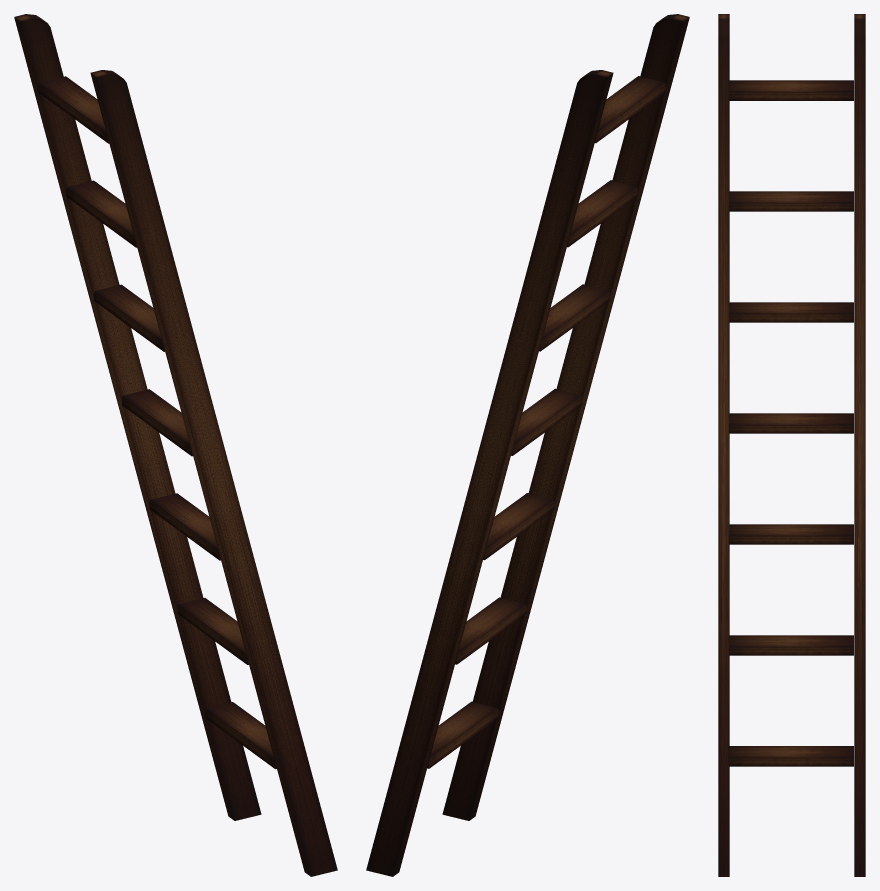
The model's file is tizi.fbx.
3 views of the same model, side by side, from view 1: azimuth 30°, elevation 25°; view 2: azimuth 150°, elevation 25°; view 3: azimuth 270°, elevation 25° (orthographic). The views are drawn at different scales.
Parts seen in each view (by area): view 1: 杮扞-暻1; view 2: 杮扞-暻1; view 3: 杮扞-暻1.
Part boxes in pixels (x1,y1,x2,y2): 杮扞-暻1: [14, 14, 337, 876]; 杮扞-暻1: [366, 14, 689, 876]; 杮扞-暻1: [718, 14, 865, 876].
Bounding box in the file's own units: 84.25 × 284 × 50.08.
1 material, 1 textured.
